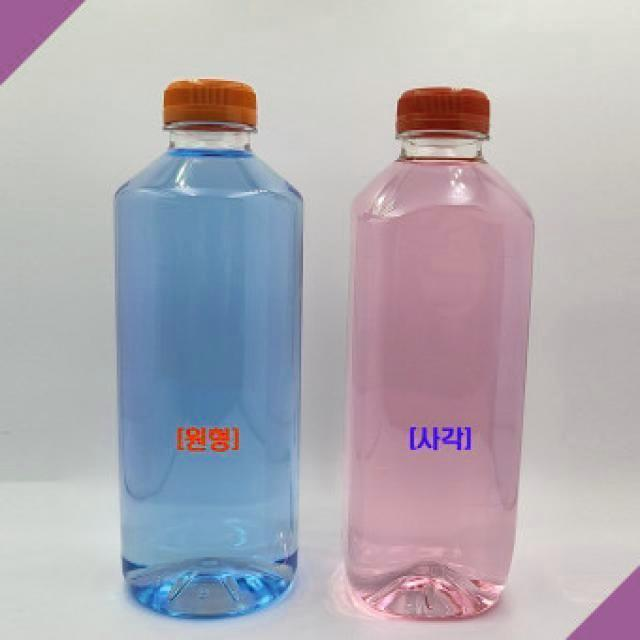bottle: (343, 87, 535, 622), (115, 81, 303, 618)
